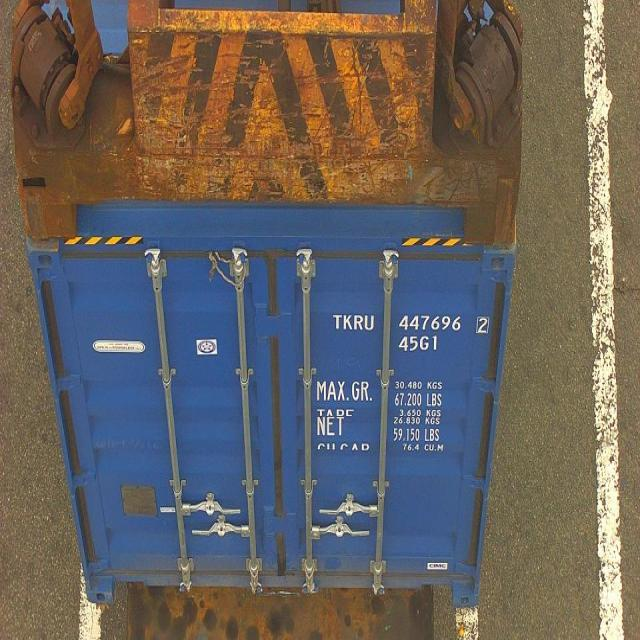ISO: (398, 335, 439, 356)
container_number: (338, 314, 482, 334)
